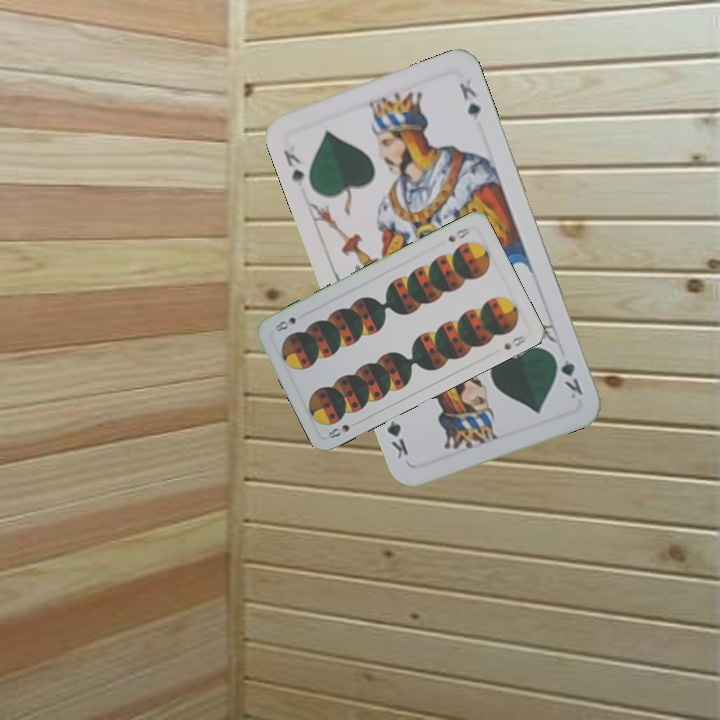GK: (548, 348, 586, 401), (279, 146, 307, 189)
S8: (444, 223, 472, 245), (324, 420, 352, 441)
